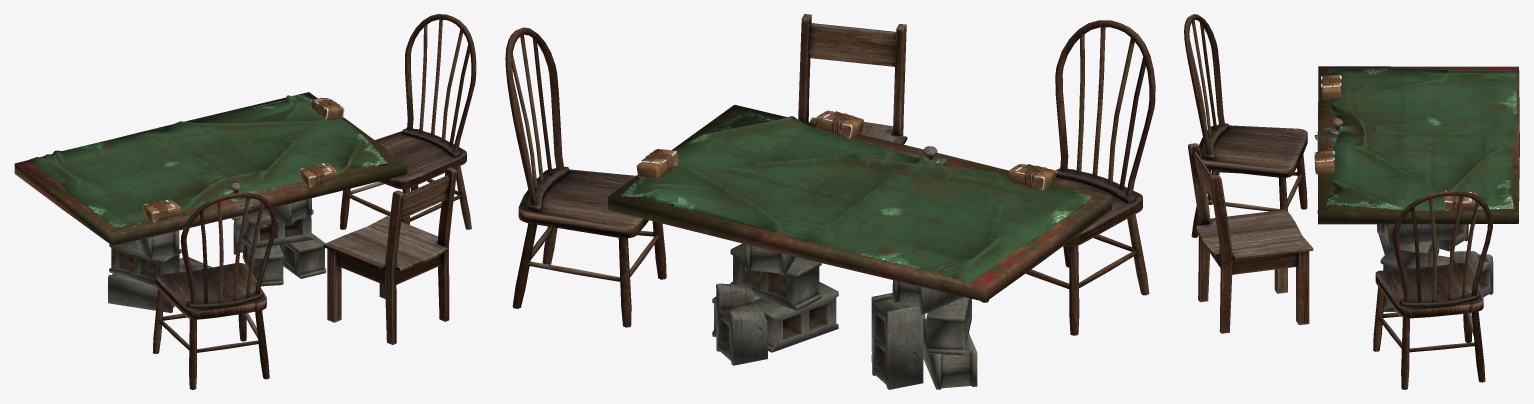
The model's file is cardtable.static_configb.glb.
3 renders of one model, left to right at view 1: azimuth 30°, elevation 25°; view 2: azimuth 150°, elevation 25°; view 3: azimuth 270°, elevation 25°, orthographic. The views are drawn at different scales.
Parts seen in each view (by area): view 1: tabledoorPOKERClear_LOD0, chair_a_LOD0 (×2), chair_b_LOD0, smallstash_LOD0 (×3); view 2: tabledoorPOKERClear_LOD0, chair_a_LOD0 (×2), chair_b_LOD0, smallstash_LOD0 (×3); view 3: tabledoorPOKERClear_LOD0, chair_a_LOD0 (×2), chair_b_LOD0, smallstash_LOD0 (×3).
Boxes of the visible parts, x1,y1,x2,y2 form: tabledoorPOKERClear_LOD0: [14, 92, 407, 312]; chair_a_LOD0 (×2): [152, 14, 476, 389]; chair_b_LOD0: [323, 167, 456, 344]; smallstash_LOD0 (×3): [143, 97, 344, 222]; tabledoorPOKERClear_LOD0: [608, 104, 1111, 389]; chair_a_LOD0 (×2): [505, 20, 1155, 335]; chair_b_LOD0: [798, 14, 907, 144]; smallstash_LOD0 (×3): [636, 110, 1056, 190]; tabledoorPOKERClear_LOD0: [1314, 66, 1519, 311]; chair_a_LOD0 (×2): [1184, 14, 1492, 389]; chair_b_LOD0: [1188, 143, 1313, 333]; smallstash_LOD0 (×3): [1314, 75, 1477, 211].
Size of the model in its own units: 2.89 by 1.33 by 2.02.
Materials: 3 (3 with a texture image).
